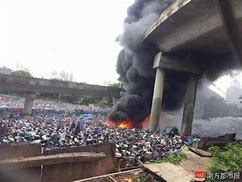smoke: (110, 1, 182, 117)
